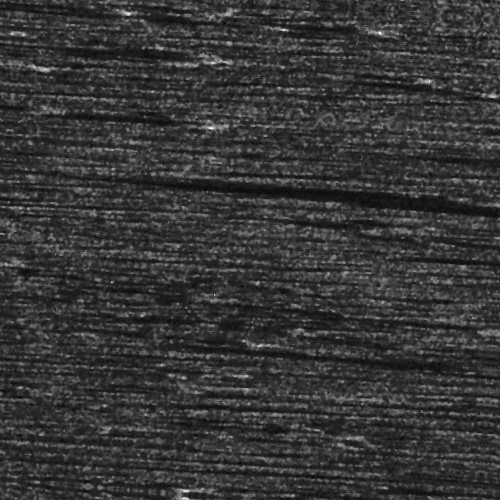object: (144, 60, 217, 65), (454, 303, 500, 310), (0, 80, 55, 85), (73, 19, 126, 22), (339, 15, 370, 20), (436, 68, 467, 73), (475, 345, 500, 350)
shadow: (207, 303, 500, 310), (217, 345, 500, 350), (0, 60, 181, 65), (403, 236, 500, 243), (230, 15, 354, 20), (331, 68, 452, 73), (0, 19, 99, 22), (0, 80, 23, 85)
